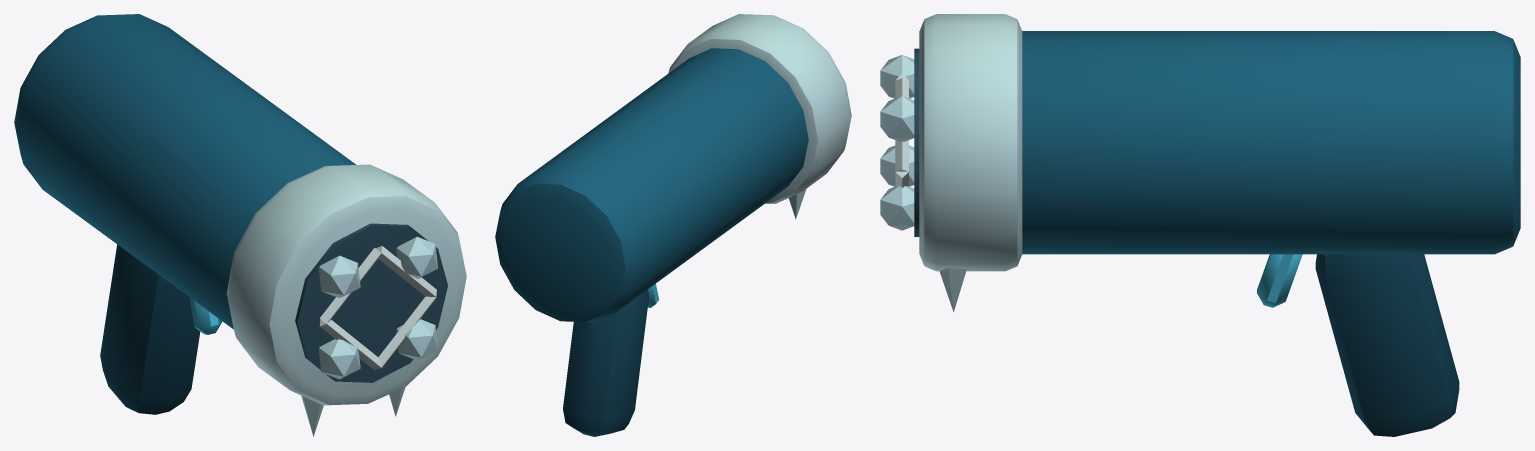
Rendered from w_n_frostnet.glb.
The picture shows the model from 3 angles, left to right: view 1: azimuth 30°, elevation 25°; view 2: azimuth 150°, elevation 25°; view 3: azimuth 270°, elevation 25°; orthographic projection. The views are drawn at different scales.
Visible parts, largest first — view 1: body; view 2: body; view 3: body.
Part boxes in pixels (x1,y1,x2,y2): body: (14,14,466,436); body: (495,14,851,436); body: (880,14,1520,436).
Bounding box in the file's own units: 0.255 × 0.4432 × 0.6337.
